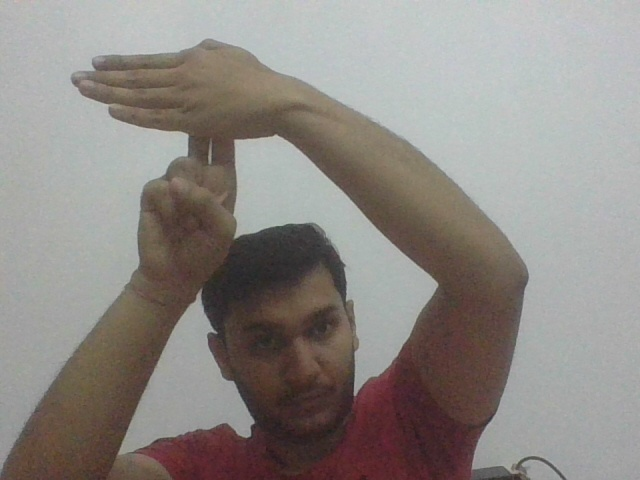N: (70, 36, 270, 163)
